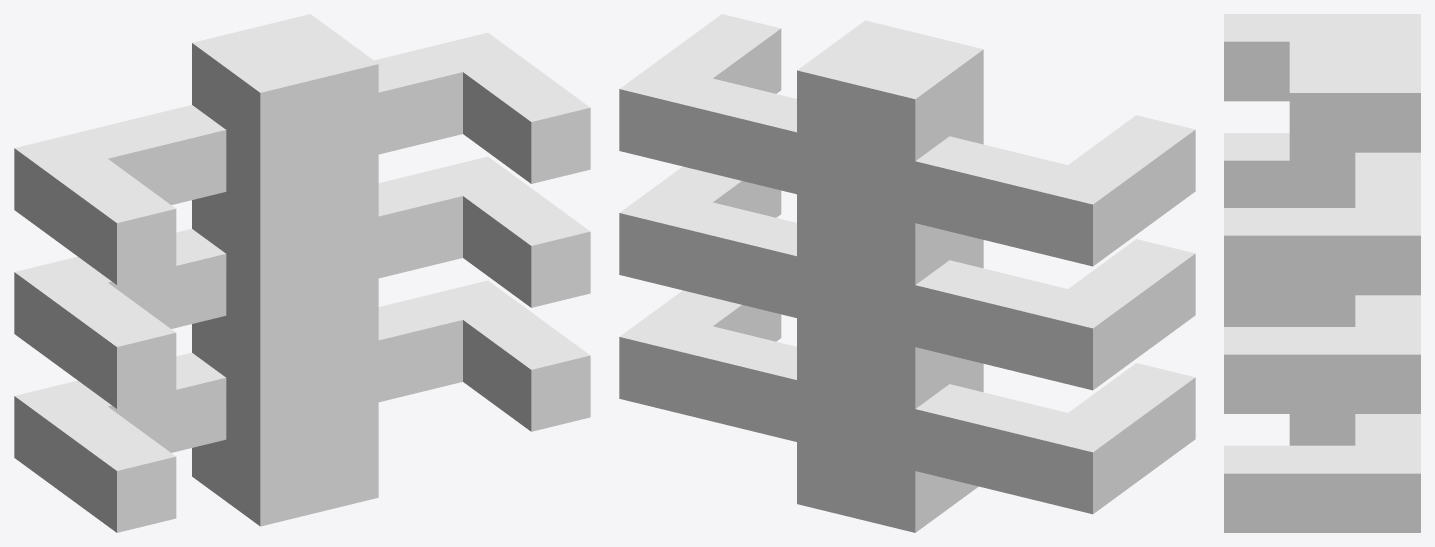
Rendered from skeltRibs.obj.
The picture shows the model from 3 angles, left to right: view 1: azimuth 30°, elevation 25°; view 2: azimuth 150°, elevation 25°; view 3: azimuth 270°, elevation 25°; orthographic projection. The views are drawn at different scales.
Visible parts, largest first — view 1: spine, rib base 1, rib base 3, rib base 2, rib curve 1b, rib curve 3b, rib curve 2b, rib curve 3a, rib curve 2a, rib curve 1a; view 2: spine, rib base 1, rib base 2, rib base 3, rib curve 1b, rib curve 2b, rib curve 3b, rib curve 1a, rib curve 3a, rib curve 2a; view 3: spine, rib curve 1a, rib curve 3a, rib curve 2a, rib base 1, rib base 2, rib base 3, rib curve 1b, rib curve 2b, rib curve 3b.
Part boxes in pixels (box(x1,y1,x2,y2)): spine: box(192, 14, 378, 526); rib base 1: box(14, 32, 521, 234); rib base 3: box(14, 280, 521, 482); rib base 2: box(14, 156, 521, 358); rib curve 1b: box(48, 158, 176, 284); rib curve 3b: box(48, 406, 176, 532); rib curve 2b: box(48, 282, 176, 408); rib curve 3a: box(463, 305, 590, 431); rib curve 2a: box(463, 181, 590, 307); rib curve 1a: box(463, 57, 590, 183); spine: box(797, 20, 983, 532); rib base 1: box(619, 64, 1127, 266); rib base 2: box(619, 188, 1127, 390); rib base 3: box(619, 312, 1127, 514); rib curve 1b: box(1068, 115, 1195, 240); rib curve 2b: box(1068, 239, 1195, 364); rib curve 3b: box(1068, 363, 1195, 488); rib curve 1a: box(654, 14, 781, 93); rib curve 3a: box(654, 290, 781, 341); rib curve 2a: box(654, 166, 781, 217); spine: box(1289, 37, 1420, 445); rib curve 1a: box(1224, 208, 1355, 295); rib curve 3a: box(1224, 445, 1355, 532); rib curve 2a: box(1224, 327, 1355, 413); rib base 1: box(1355, 14, 1420, 295); rib base 2: box(1355, 295, 1420, 413); rib base 3: box(1355, 414, 1420, 532); rib curve 1b: box(1224, 14, 1355, 101); rib curve 2b: box(1224, 133, 1289, 207); rib curve 3b: box(1224, 295, 1289, 326).
Bounding box in the file's own units: 0.5 × 0.4375 × 0.1875.
